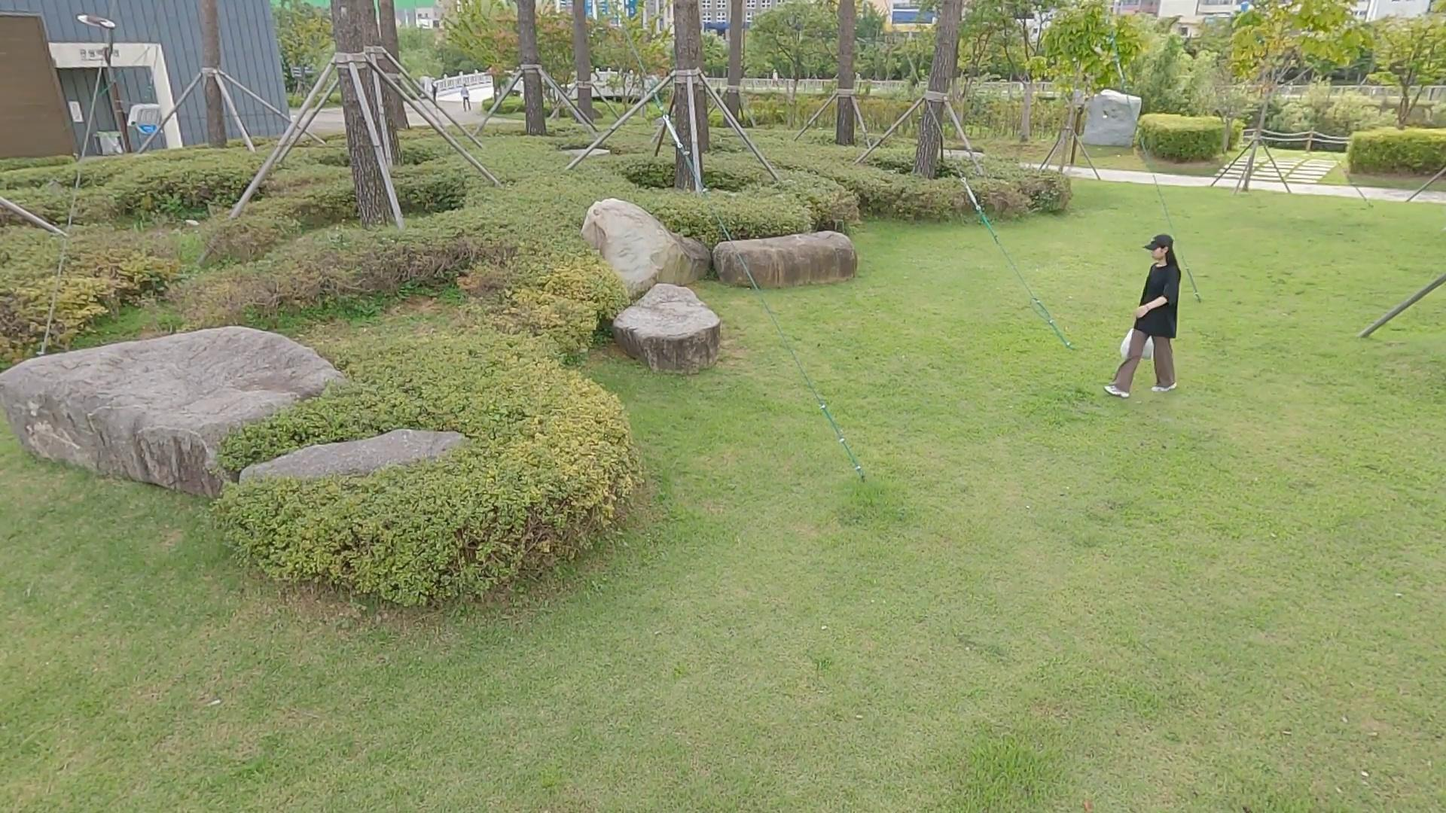person: (1105, 237, 1191, 399)
trash: (1120, 324, 1154, 365)
